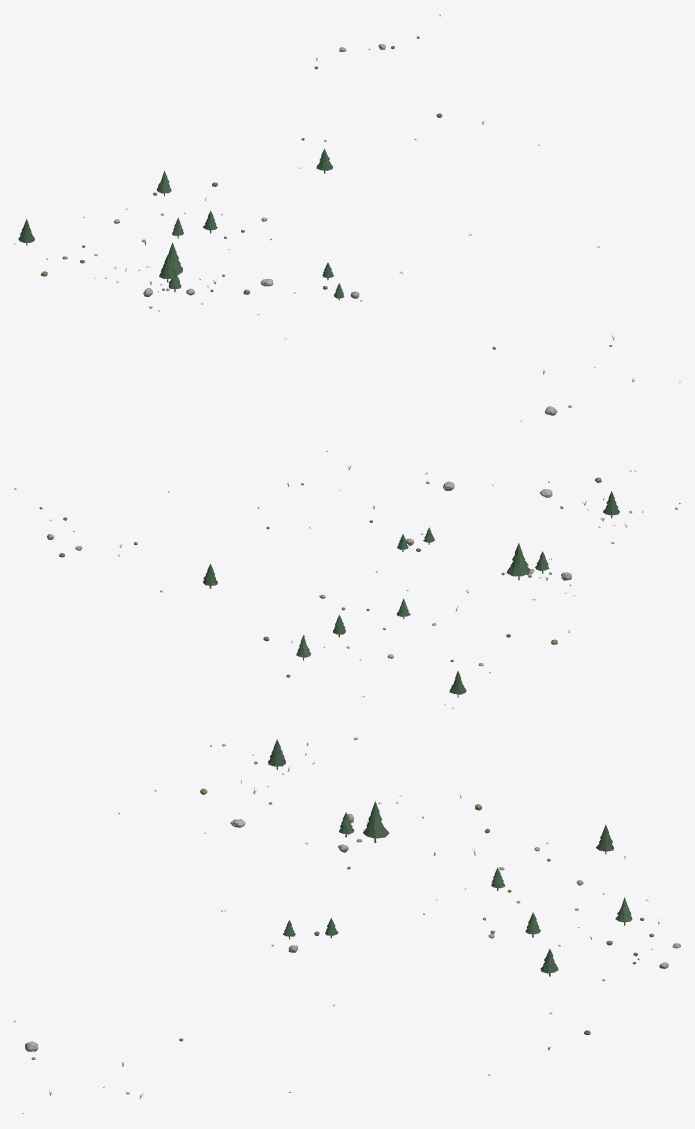
Rendered from coast_land_scatter_c10_21.glb.
3 views of the same model, one above another, from view 1: azimuth 30°, elevation 25°; view 2: azimuth 150°, elevation 25°; view 3: azimuth 270°, elevation 25° (orthographic). The views are drawn at different scales.
Visible parts, largest first — view 1: coast_land_scatter_c10_21; view 2: coast_land_scatter_c10_21; view 3: coast_land_scatter_c10_21.
Part boxes in pixels (x1=…): coast_land_scatter_c10_21: x1=14, y1=14, x2=680, y2=421; coast_land_scatter_c10_21: x1=14, y1=451, x2=680, y2=708; coast_land_scatter_c10_21: x1=14, y1=737, x2=680, y2=1113.
Size of the model in its own units: 245 by 74.44 by 249.
